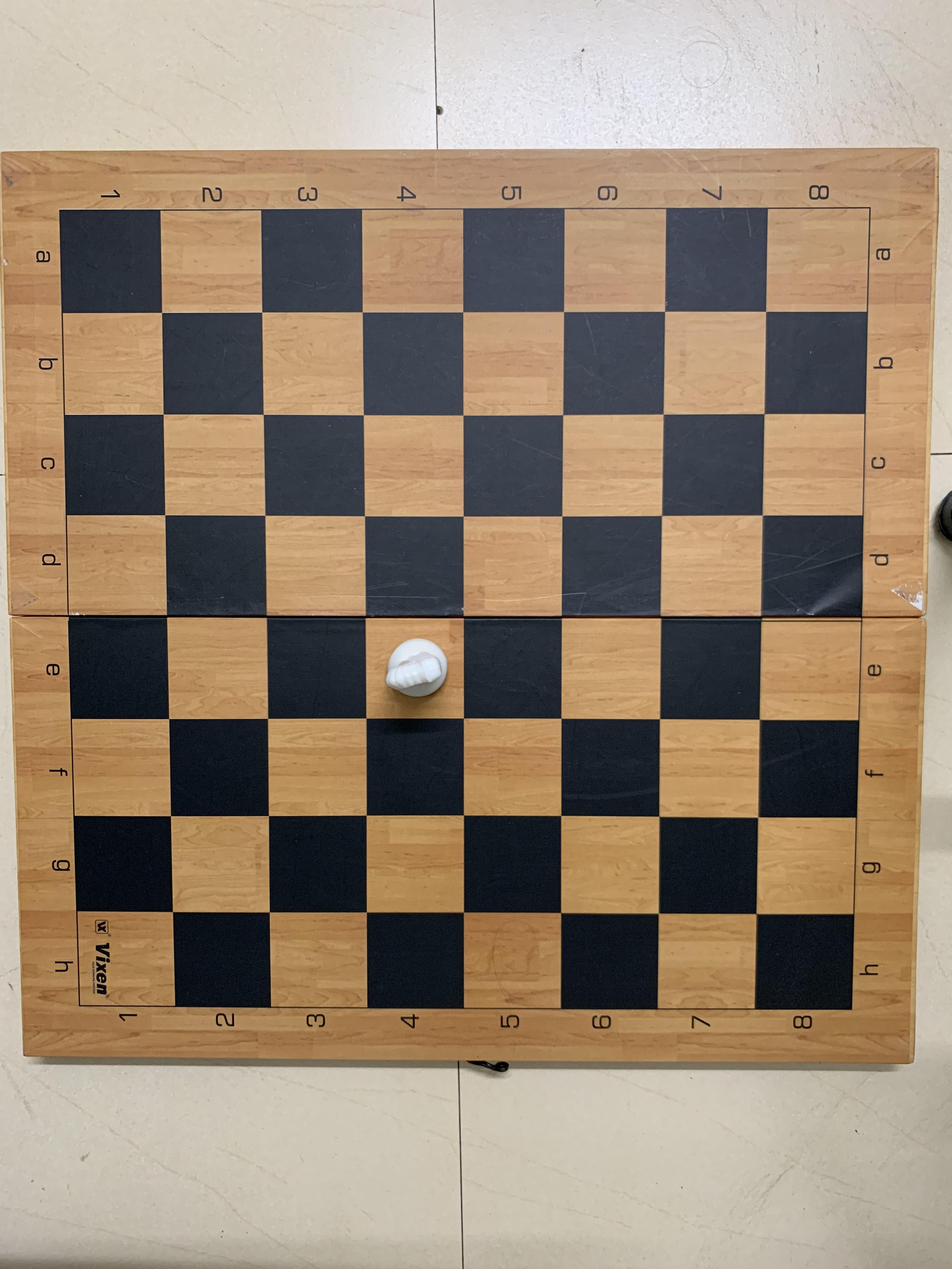white_knight: (367, 615, 463, 718)
